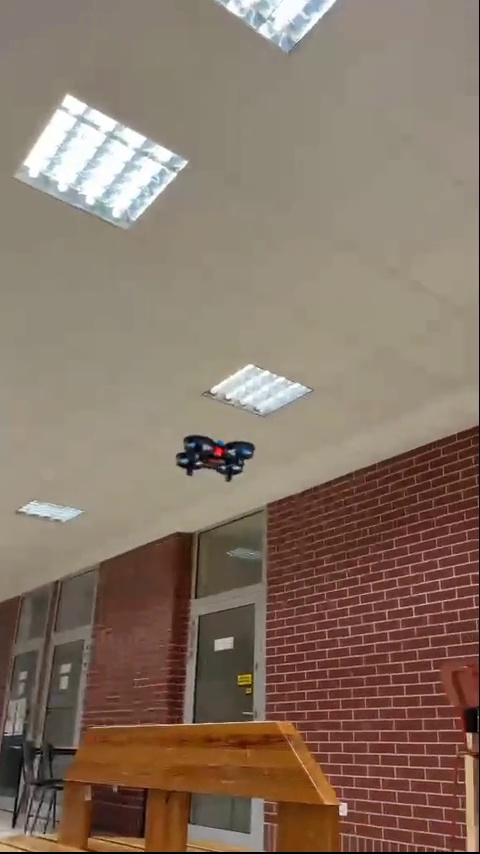drone: (175, 432, 256, 483)
